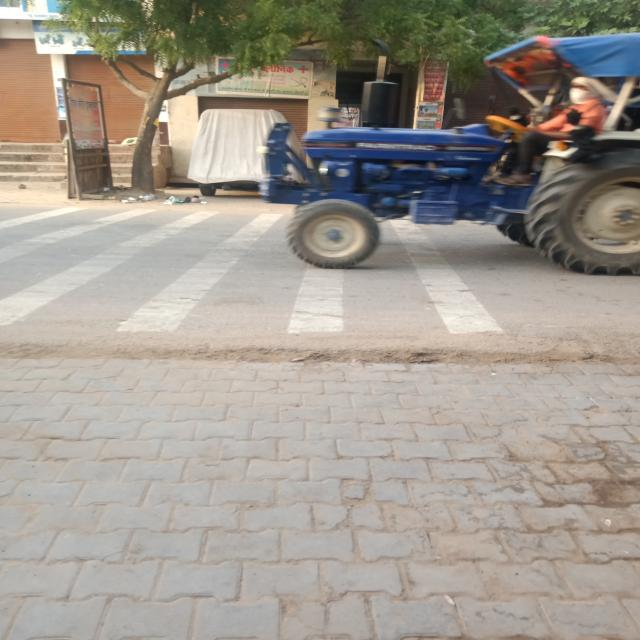Car: (189, 105, 294, 202)
tractor: (250, 20, 636, 291)
